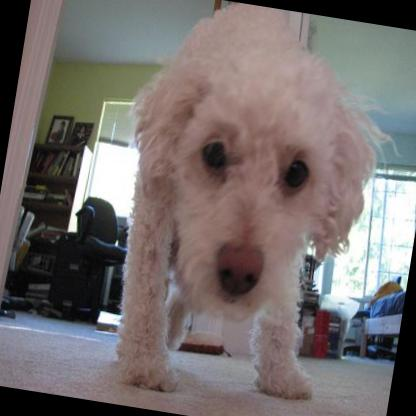toy_poodle: (84, 0, 416, 416)
